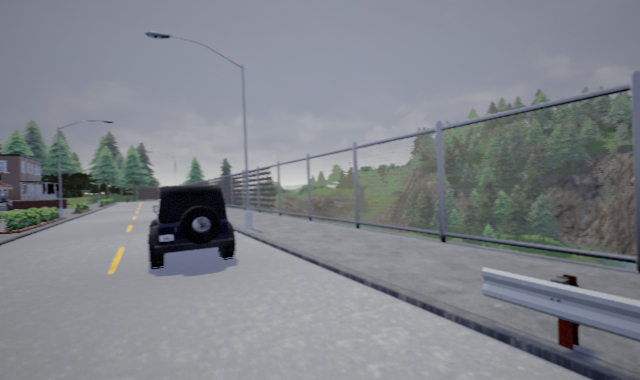vehicle: (148, 182, 236, 267)
